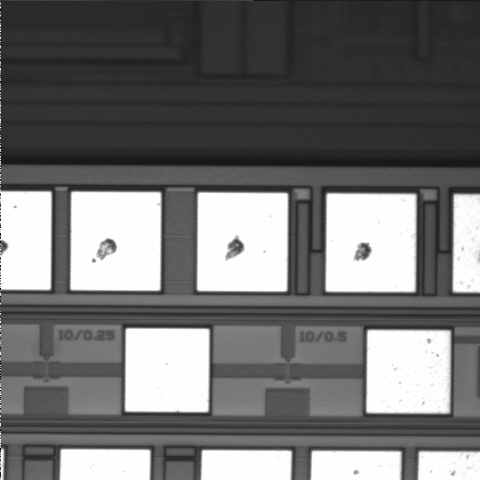pad: (197, 193, 288, 291), (71, 192, 161, 291), (326, 194, 416, 292), (125, 329, 209, 412), (367, 330, 450, 413)
